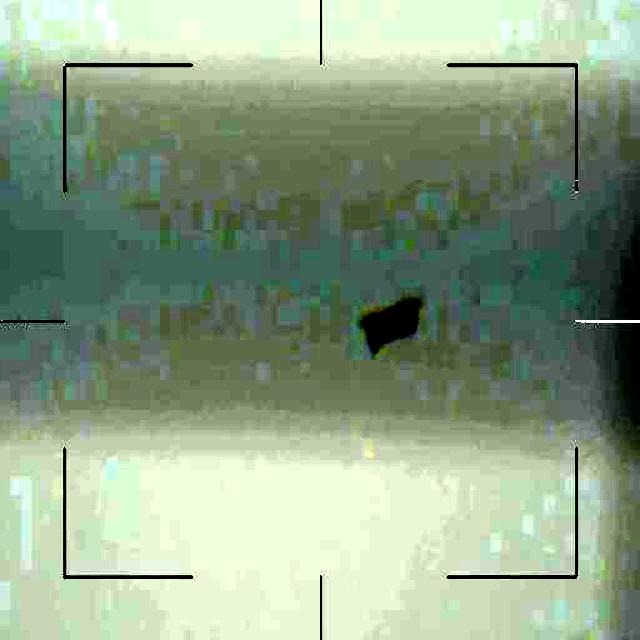bird: (358, 296, 418, 354)
